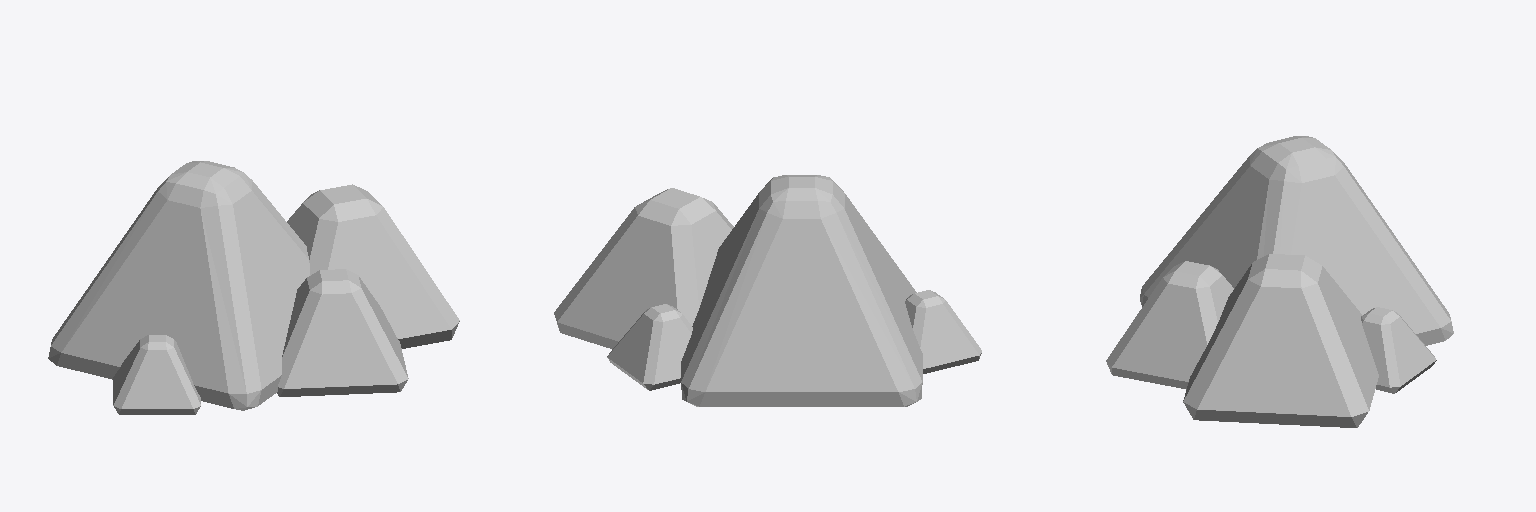
Rendered from Bush_4_E_Color1.obj.
The picture shows the model from 3 angles: view 1: azimuth 30°, elevation 25°; view 2: azimuth 150°, elevation 25°; view 3: azimuth 270°, elevation 25°; orthographic projection.
Parts seen in each view (by area): view 1: Bush_4_E_Color1; view 2: Bush_4_E_Color1; view 3: Bush_4_E_Color1.
Part boxes in pixels (left/top/right/bottom): Bush_4_E_Color1: left=48, top=161, right=459, bottom=414; Bush_4_E_Color1: left=554, top=175, right=981, bottom=406; Bush_4_E_Color1: left=1106, top=136, right=1453, bottom=427.
Bounding box in the file's own units: 2.7 × 1.3 × 2.28.